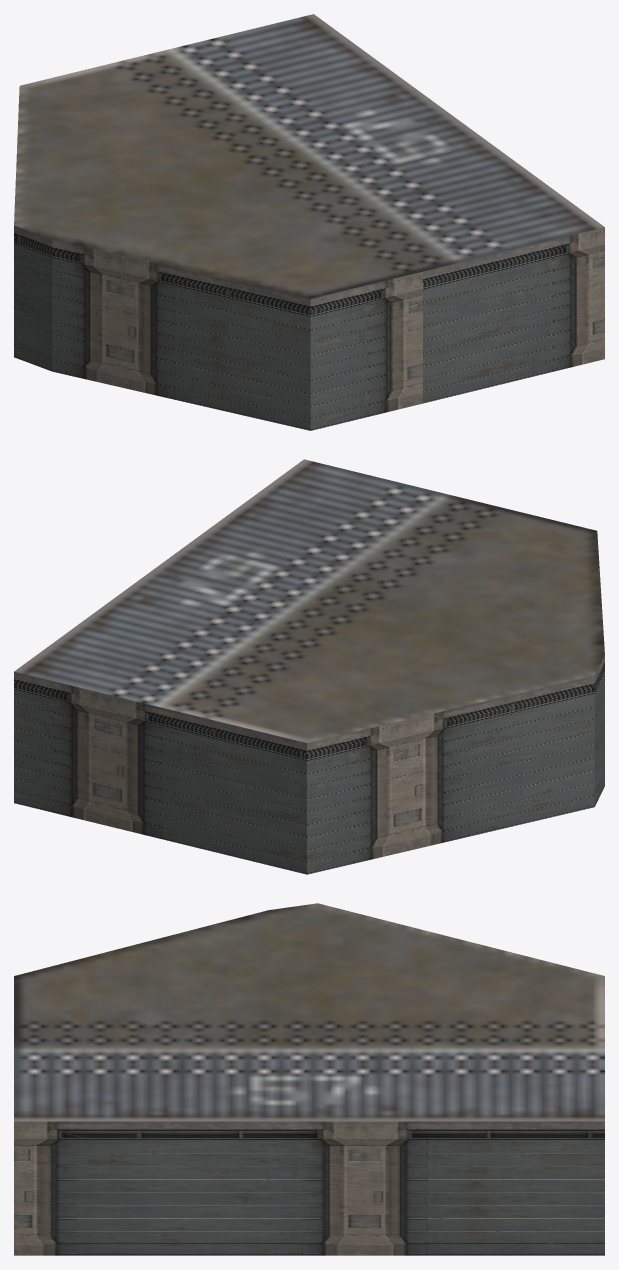
Rendered from hangar_medium_57.glb.
The picture shows the model from 3 angles, top to bottom: view 1: azimuth 30°, elevation 25°; view 2: azimuth 150°, elevation 25°; view 3: azimuth 270°, elevation 25°; orthographic projection.
Visible parts, largest first — view 1: buildings/saxarba/hangar_medium/hangar_medium_57; view 2: buildings/saxarba/hangar_medium/hangar_medium_57; view 3: buildings/saxarba/hangar_medium/hangar_medium_57.
Part boxes in pixels (x1,y1,x2,y2): buildings/saxarba/hangar_medium/hangar_medium_57: (14, 14, 604, 430); buildings/saxarba/hangar_medium/hangar_medium_57: (14, 459, 604, 874); buildings/saxarba/hangar_medium/hangar_medium_57: (14, 903, 604, 1255).
Bounding box in the file's own units: 63 × 18 × 72.
